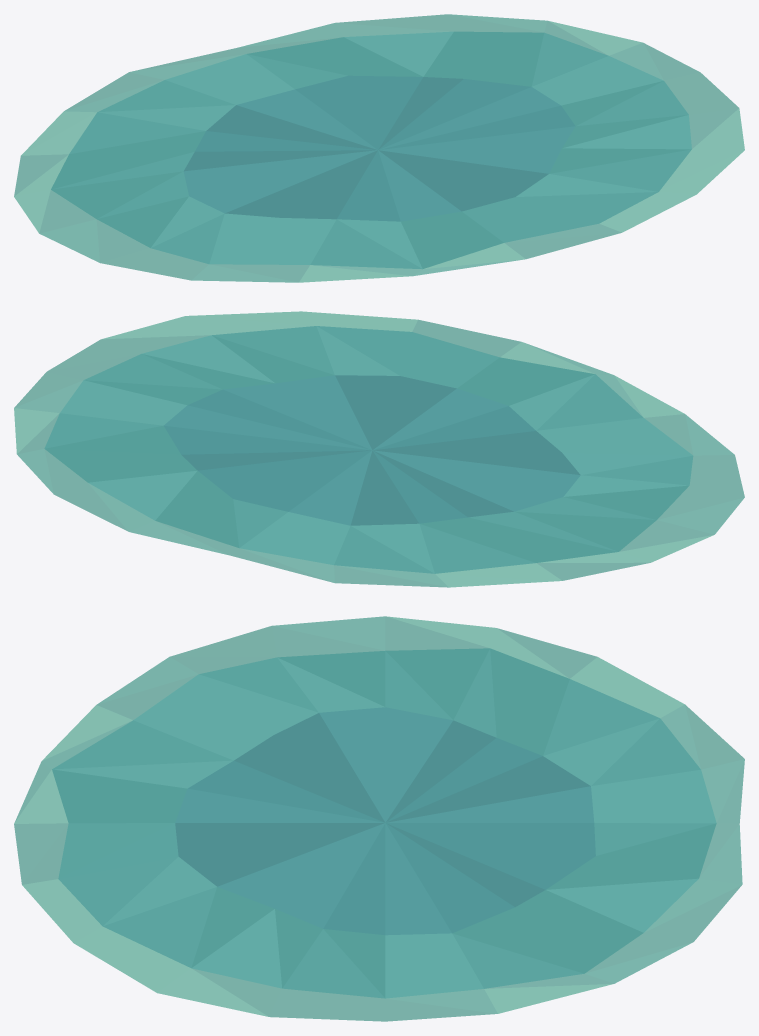
Rendered from cascade-pool.glb.
3 renders of one model, top to bottom at view 1: azimuth 30°, elevation 25°; view 2: azimuth 150°, elevation 25°; view 3: azimuth 270°, elevation 25°, orthographic. The views are drawn at different scales.
Visible parts, largest first — view 1: cascade-pool; view 2: cascade-pool; view 3: cascade-pool.
Boxes of the visible parts, left/top/right/bottom form: cascade-pool: left=14, top=14, right=744, bottom=282; cascade-pool: left=14, top=311, right=744, bottom=587; cascade-pool: left=14, top=616, right=744, bottom=1021.
Bounding box in the file's own units: 15.57 × 0.02 × 11.87.
Materials: 1 (1 with a texture image).
